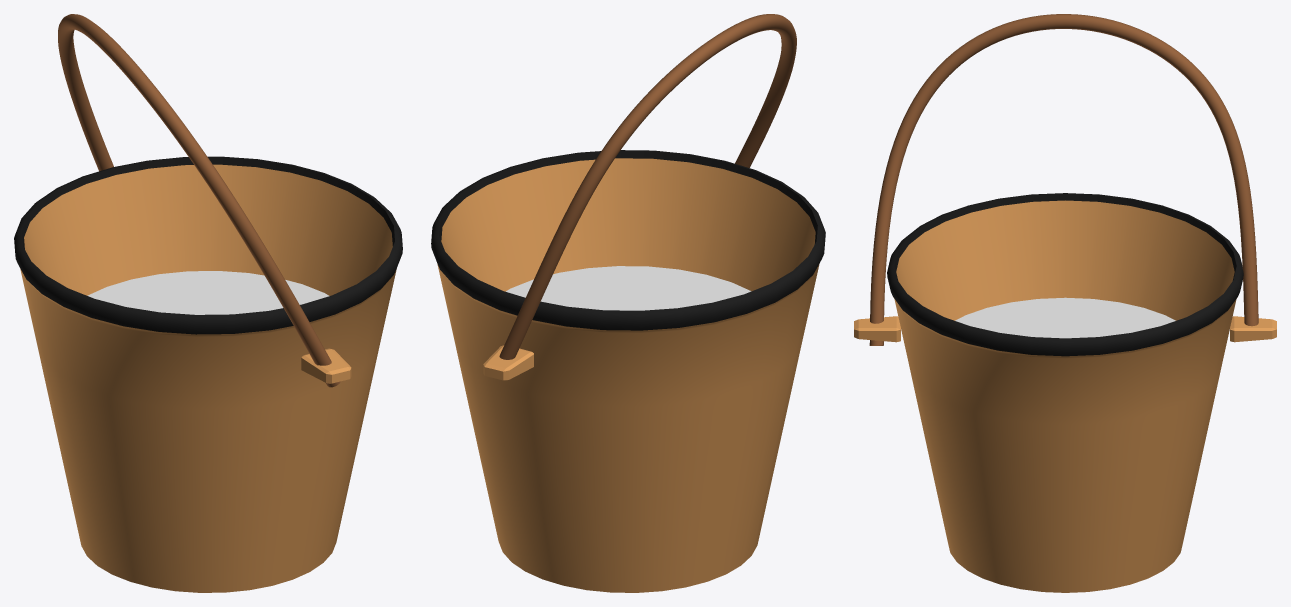
File: ВЕДРО.fbx
3 renders of one model, left to right at view 1: azimuth 30°, elevation 25°; view 2: azimuth 150°, elevation 25°; view 3: azimuth 270°, elevation 25°, orthographic. The views are drawn at different scales.
Parts seen in each view (by area): view 1: Цилиндр, ТраекторияNurbs.007, Цилиндр.118, Куб.034; view 2: Цилиндр, ТраекторияNurbs.007, Цилиндр.118, Куб.034; view 3: Цилиндр, ТраекторияNurbs.007, Цилиндр.118, Куб.034.
Boxes of the visible parts, bbox=[...] form: Цилиндр: bbox=[14, 156, 402, 592]; ТраекторияNurbs.007: bbox=[58, 14, 340, 387]; Цилиндр.118: bbox=[87, 271, 329, 314]; Куб.034: bbox=[301, 348, 351, 383]; Цилиндр: bbox=[431, 150, 825, 592]; ТраекторияNurbs.007: bbox=[499, 14, 796, 359]; Цилиндр.118: bbox=[506, 266, 751, 310]; Куб.034: bbox=[483, 345, 533, 380]; Цилиндр: bbox=[887, 193, 1243, 592]; ТраекторияNurbs.007: bbox=[869, 14, 1258, 345]; Цилиндр.118: bbox=[955, 297, 1175, 338]; Куб.034: bbox=[854, 316, 1276, 342].
Size of the model in its own units: 86.18 by 129 by 102.
